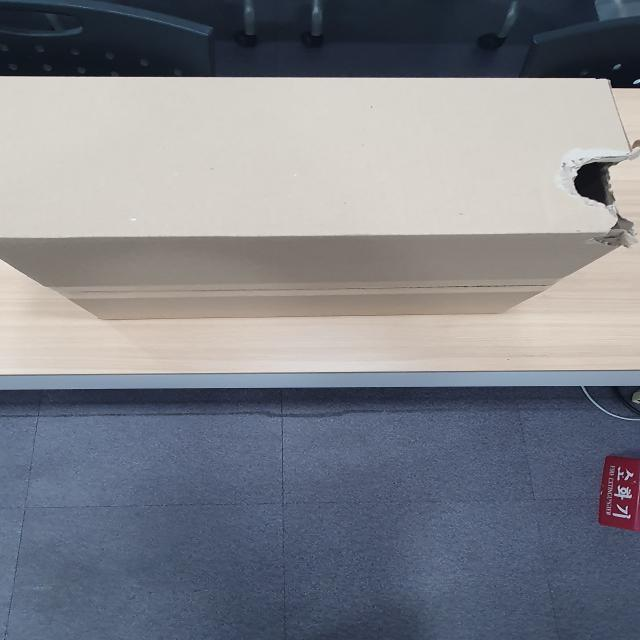hole: (545, 143, 637, 251)
